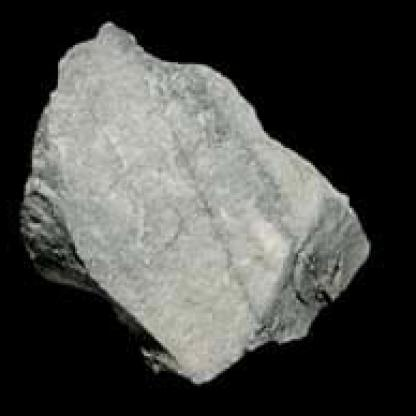Metamorphic_Quartize: (26, 11, 388, 388)
